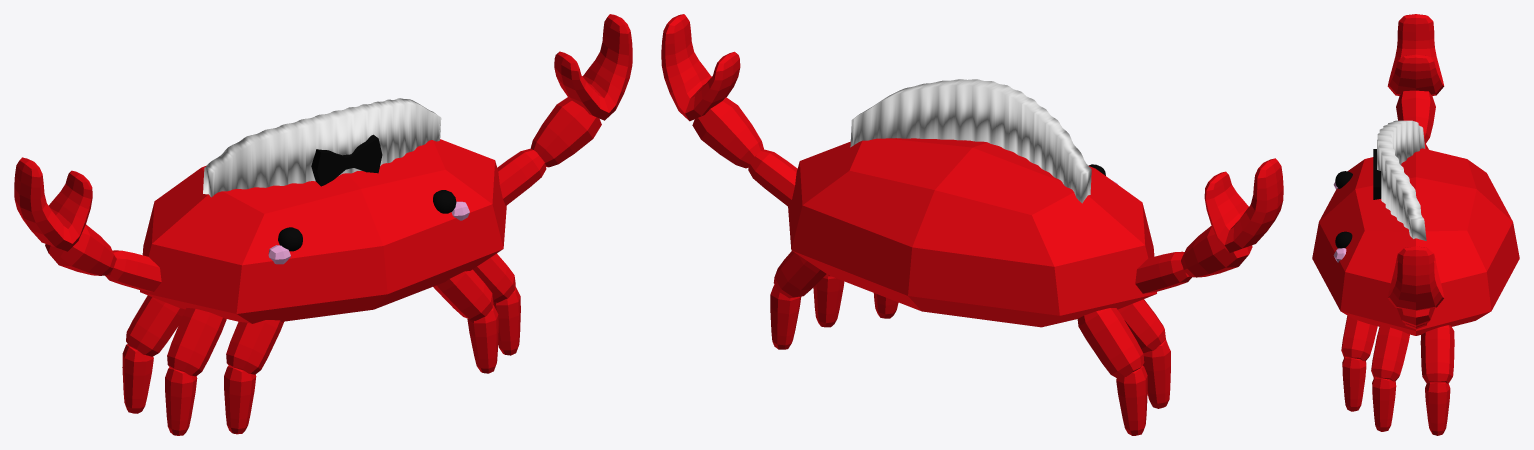
File: crab.fbx
The picture shows the model from 3 angles, left to right: view 1: azimuth 30°, elevation 25°; view 2: azimuth 150°, elevation 25°; view 3: azimuth 270°, elevation 25°; orthographic projection. The views are drawn at different scales.
Parts seen in each view (by area): view 1: Plane; view 2: Plane; view 3: Plane.
Part boxes in pixels (<box>): Plane: <box>14,14,632,435</box>; Plane: <box>661,14,1283,435</box>; Plane: <box>1312,14,1519,435</box>.
Bounding box in the file's own units: 741 × 340 × 271.
